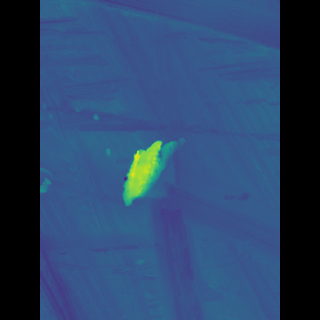Loch: (128, 132, 182, 210)
